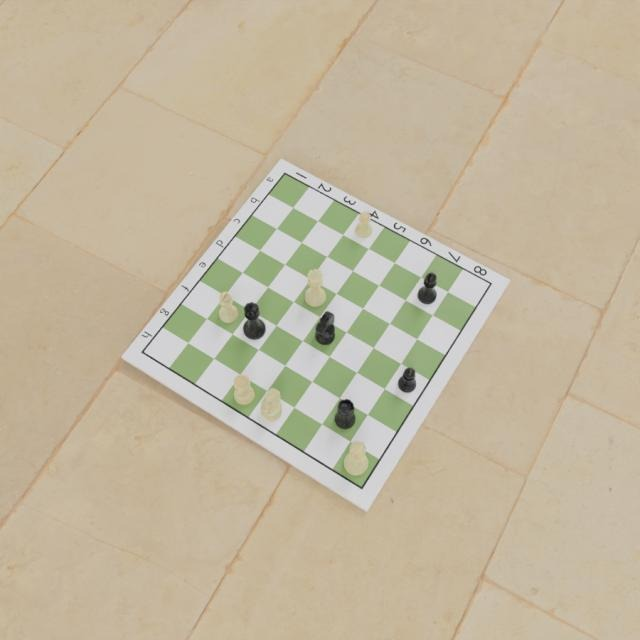black-bishop: (417, 271, 437, 305), (398, 366, 418, 394)
black-king: (242, 301, 265, 340)
black-knight: (315, 310, 337, 346)
black-rook: (333, 398, 356, 430)
white-bishop: (218, 291, 238, 325)
white-king: (343, 440, 369, 476)
white-knight: (259, 386, 283, 421)
white-pawn: (355, 210, 373, 238)
white-queen: (303, 267, 326, 309)
white-rook: (233, 373, 255, 406)
